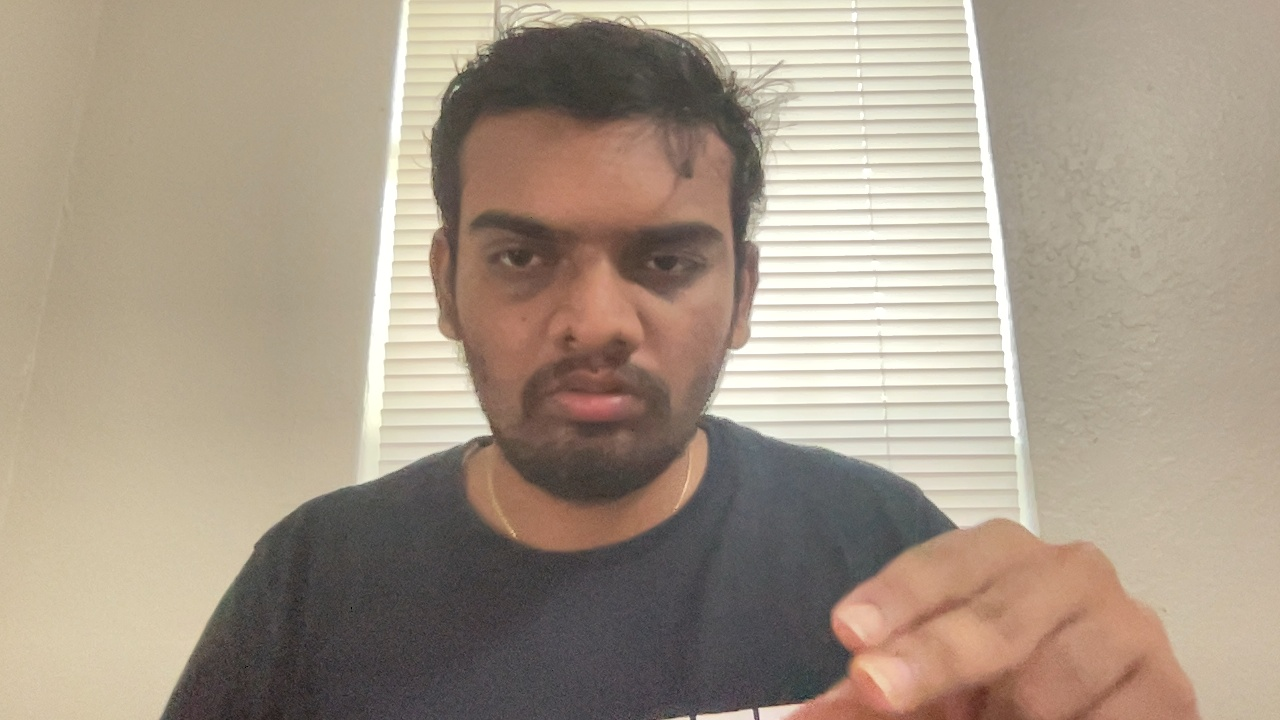no: (765, 506, 1195, 720)
